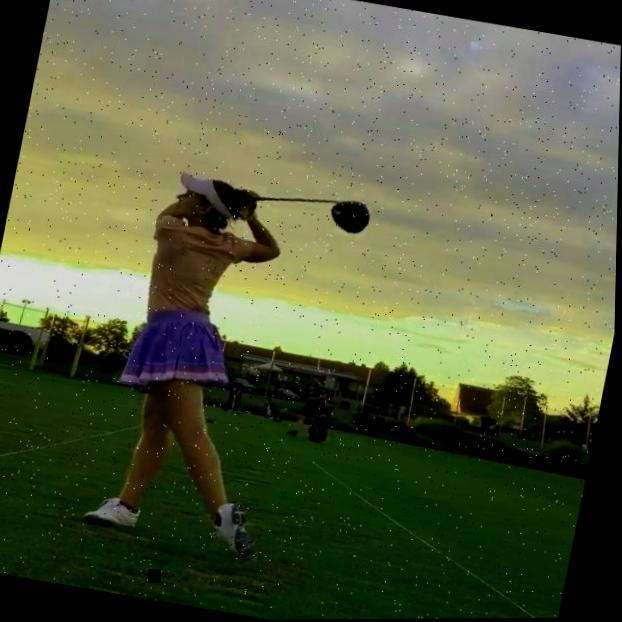ClubHead: (329, 199, 373, 236)
